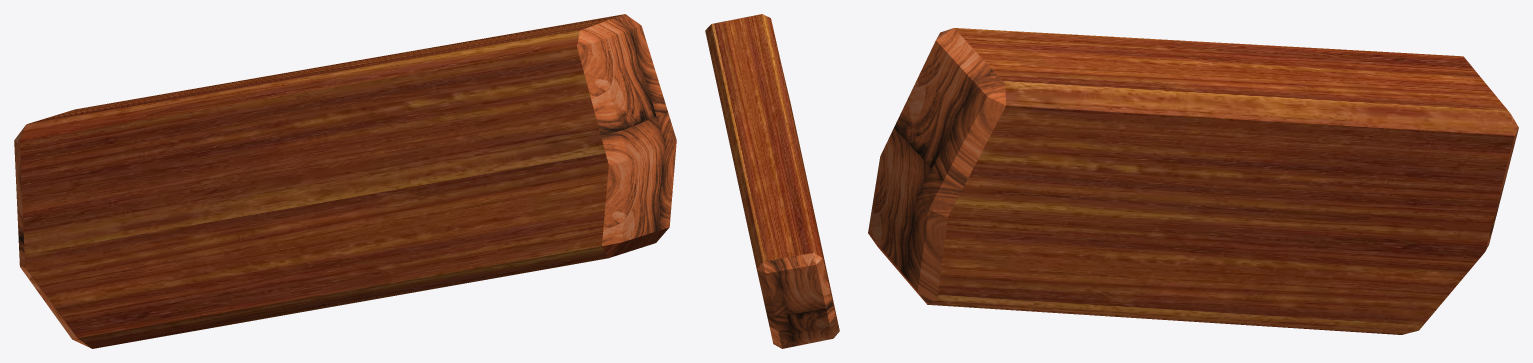
Rendered from quanyi_J_D_yiquan0203_sai.FBX.
3 views of the same model, side by side, from view 1: azimuth 30°, elevation 25°; view 2: azimuth 150°, elevation 25°; view 3: azimuth 270°, elevation 25° (orthographic). The views are drawn at different scales.
Parts seen in each view (by area): view 1: quanyi_J_D_yiquan0203_sai; view 2: quanyi_J_D_yiquan0203_sai; view 3: quanyi_J_D_yiquan0203_sai.
Part boxes in pixels (<box>): quanyi_J_D_yiquan0203_sai: <box>14,14,676,348</box>; quanyi_J_D_yiquan0203_sai: <box>705,14,839,348</box>; quanyi_J_D_yiquan0203_sai: <box>868,28,1518,334</box>.
Size of the model in its own units: 2.12 by 1.85 by 2.5.
2 materials, 2 textured.
